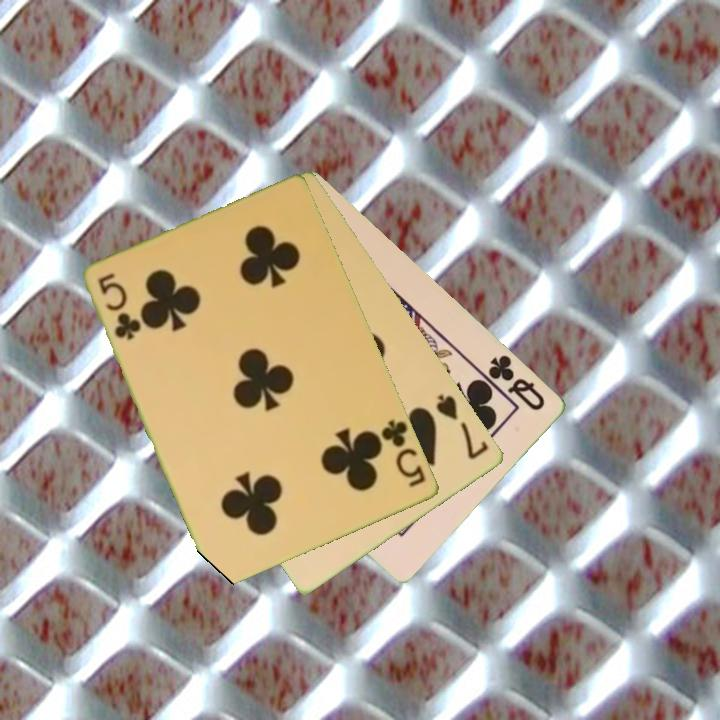5c: (375, 416, 429, 491), (95, 269, 143, 344)
7s: (433, 390, 493, 463)
Qc: (485, 351, 549, 414)
